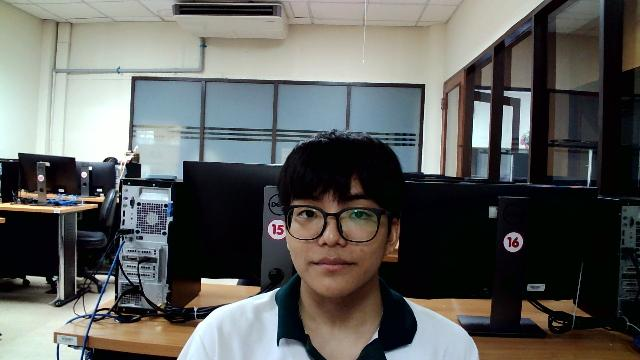fokus: (290, 182, 387, 301)
